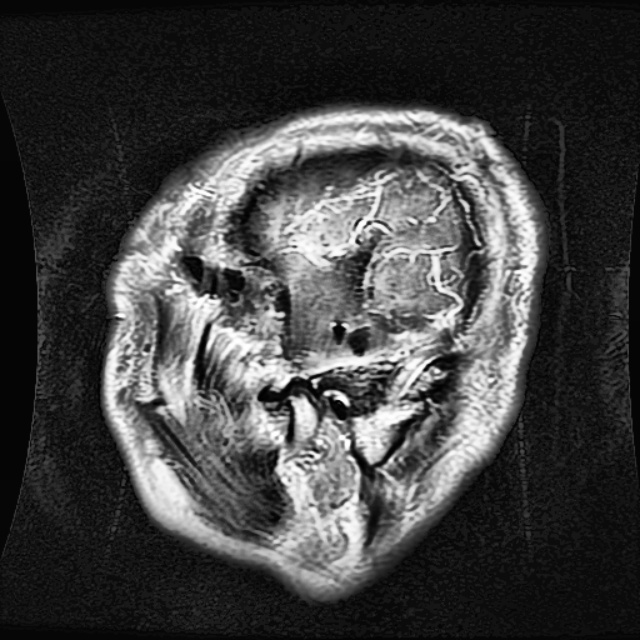Meningioma: (265, 229, 435, 357)
